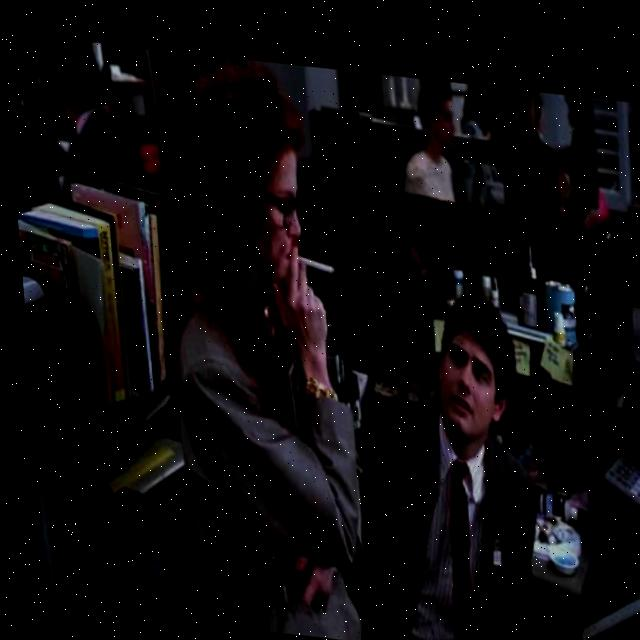cigarette: (293, 248, 330, 266)
